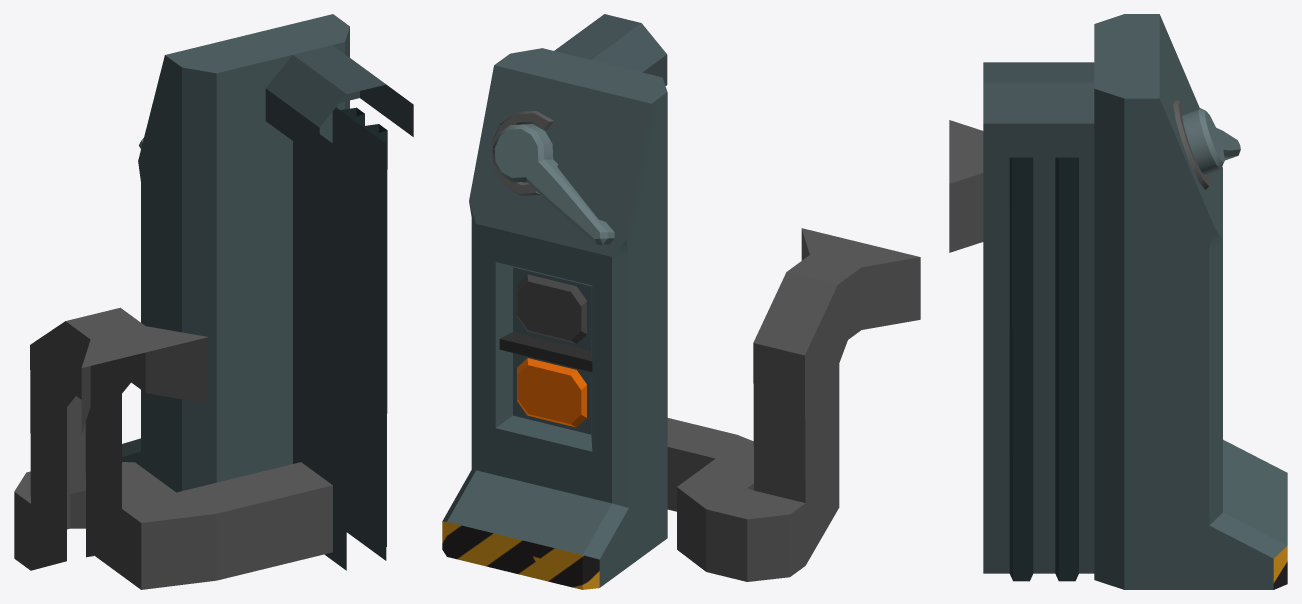
The model's file is SM_switch_down_false2.fbx.
3 renders of one model, left to right at view 1: azimuth 30°, elevation 25°; view 2: azimuth 150°, elevation 25°; view 3: azimuth 270°, elevation 25°, orthographic. The views are drawn at different scales.
Visible parts, largest first — view 1: SM_switch_down_false2; view 2: SM_switch_down_false2; view 3: SM_switch_down_false2.
Part boxes in pixels (<box>): SM_switch_down_false2: <box>14,14,413,589</box>; SM_switch_down_false2: <box>442,14,920,589</box>; SM_switch_down_false2: <box>949,14,1287,589</box>.
Size of the model in its own units: 115 by 148 by 92.47.
1 material, 1 textured.
